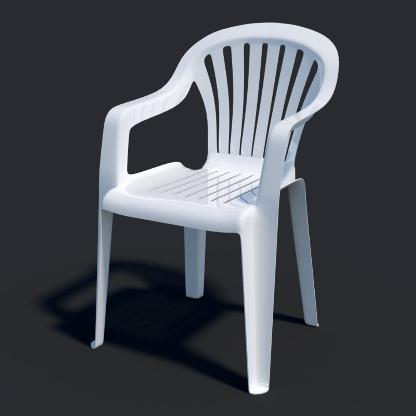chair: (86, 16, 342, 402)
